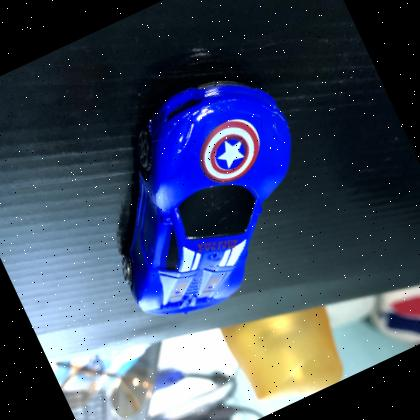Car: (52, 42, 356, 342)
